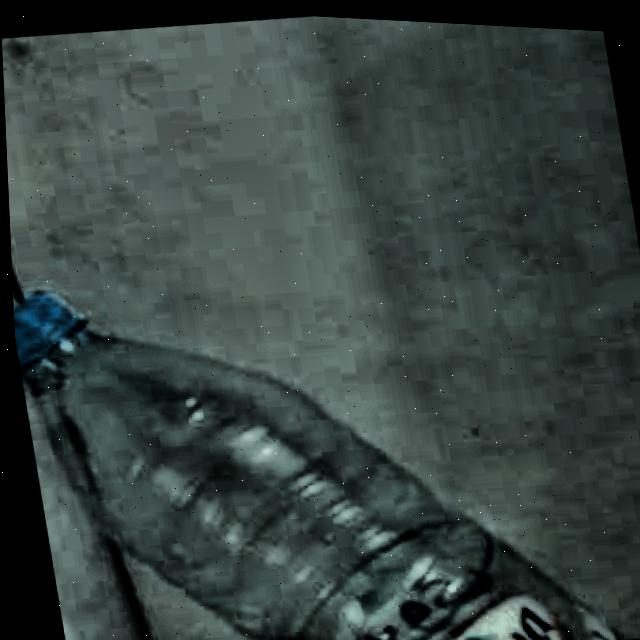plastic: (7, 201, 640, 640)
